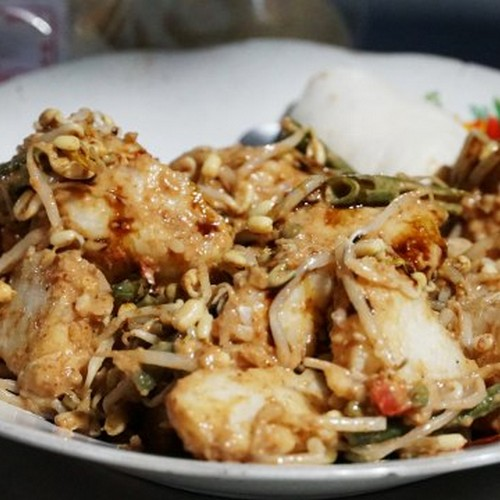tipat cantok: (20, 104, 466, 457)
